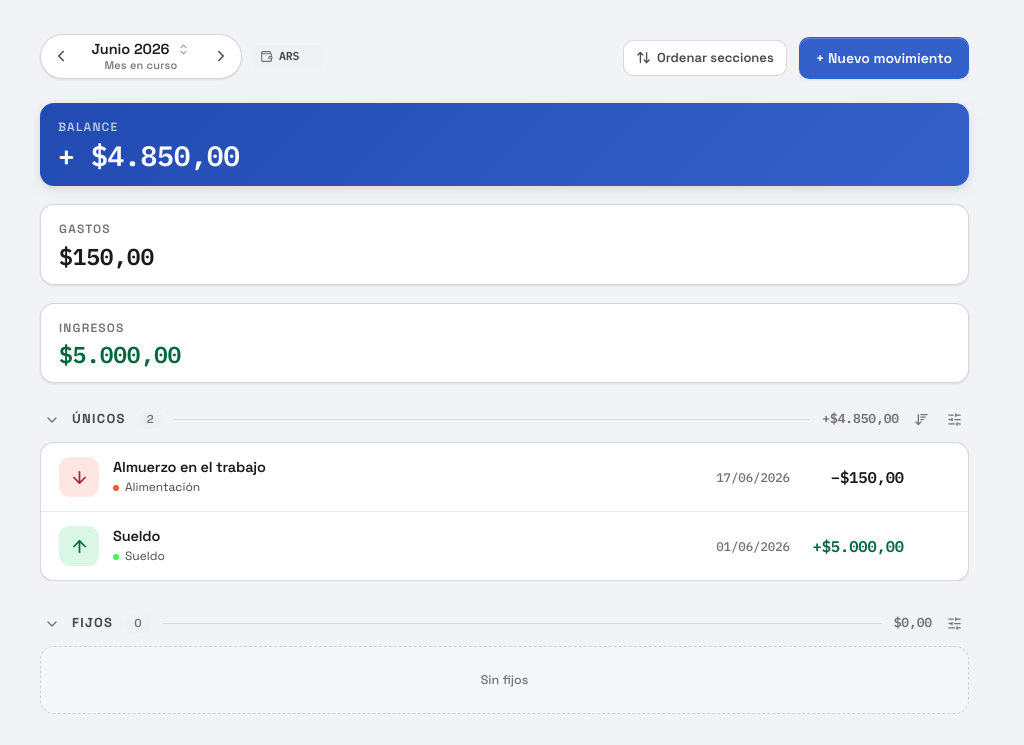
MonthViewClient › Fase 1.1.4 P5 — Acordeón › colapsar una sección cambia aria-expanded a false
The width and height of the screenshot is (1024, 745).
Click the button "Únicos 2 +$4.850,00".
click(99, 419)  # box x1=40 y1=410 x2=903 y2=429
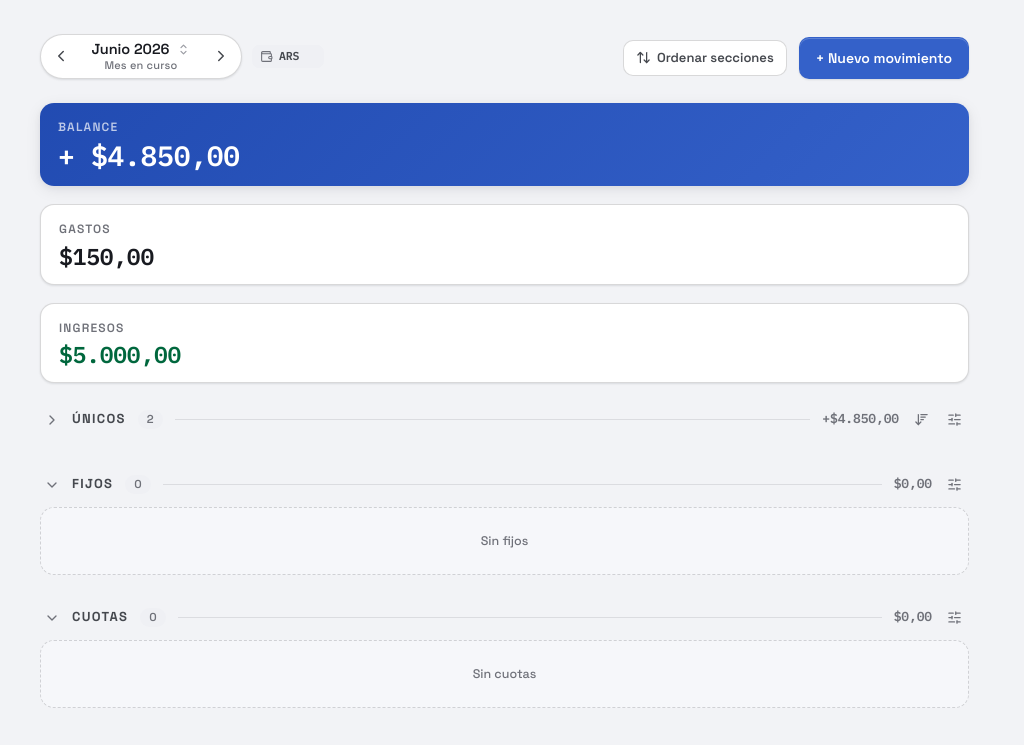
Check: the button "Únicos 2 +$4.850,00" is collapsed, box x1=40 y1=410 x2=903 y2=429
